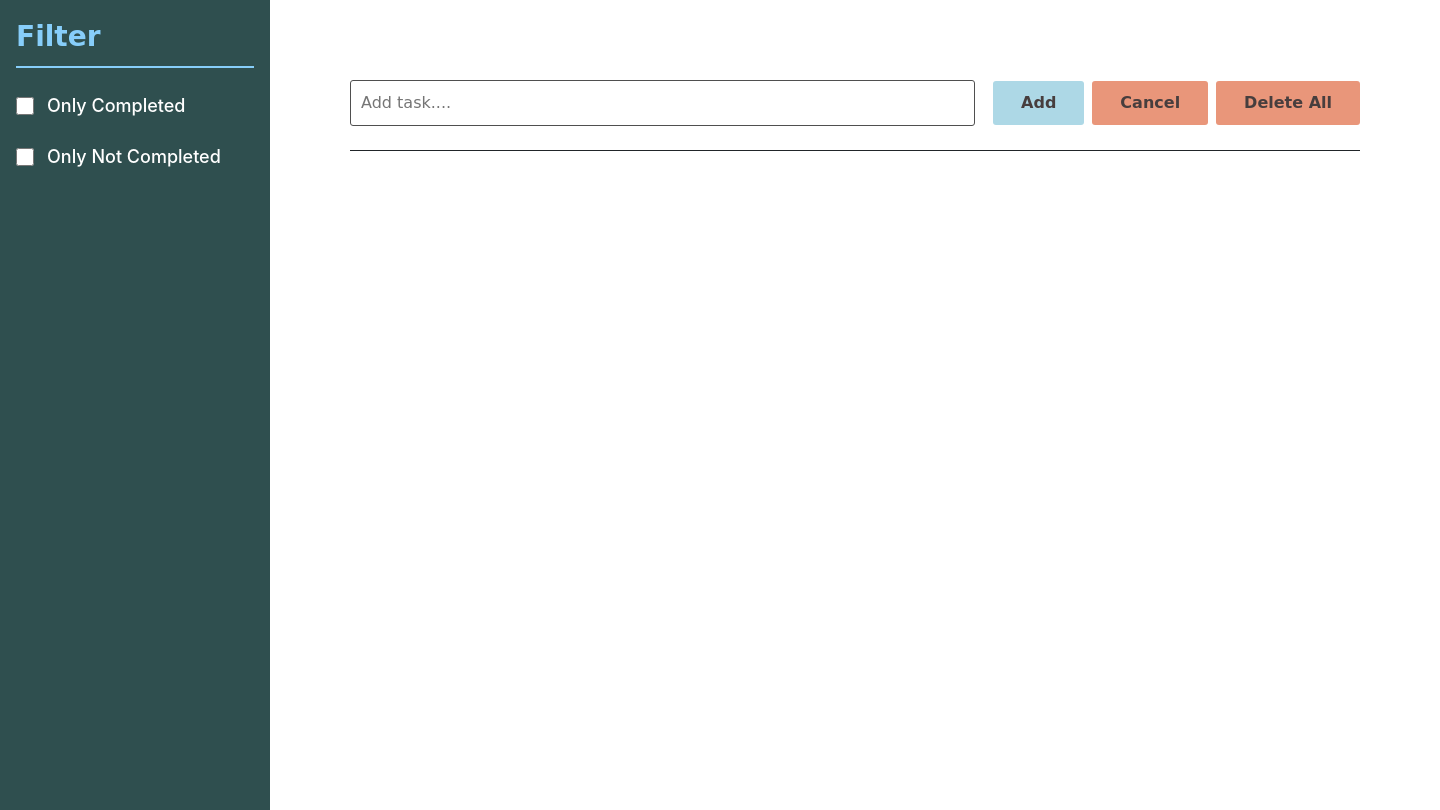
Testing Main Page ToDo › Logic Work Btn Cancel
Expected: the text "Cancel" is shown, 1092,81 -> 1208,125
Type "test" into the field at (663, 103), box 350,80 -> 975,126
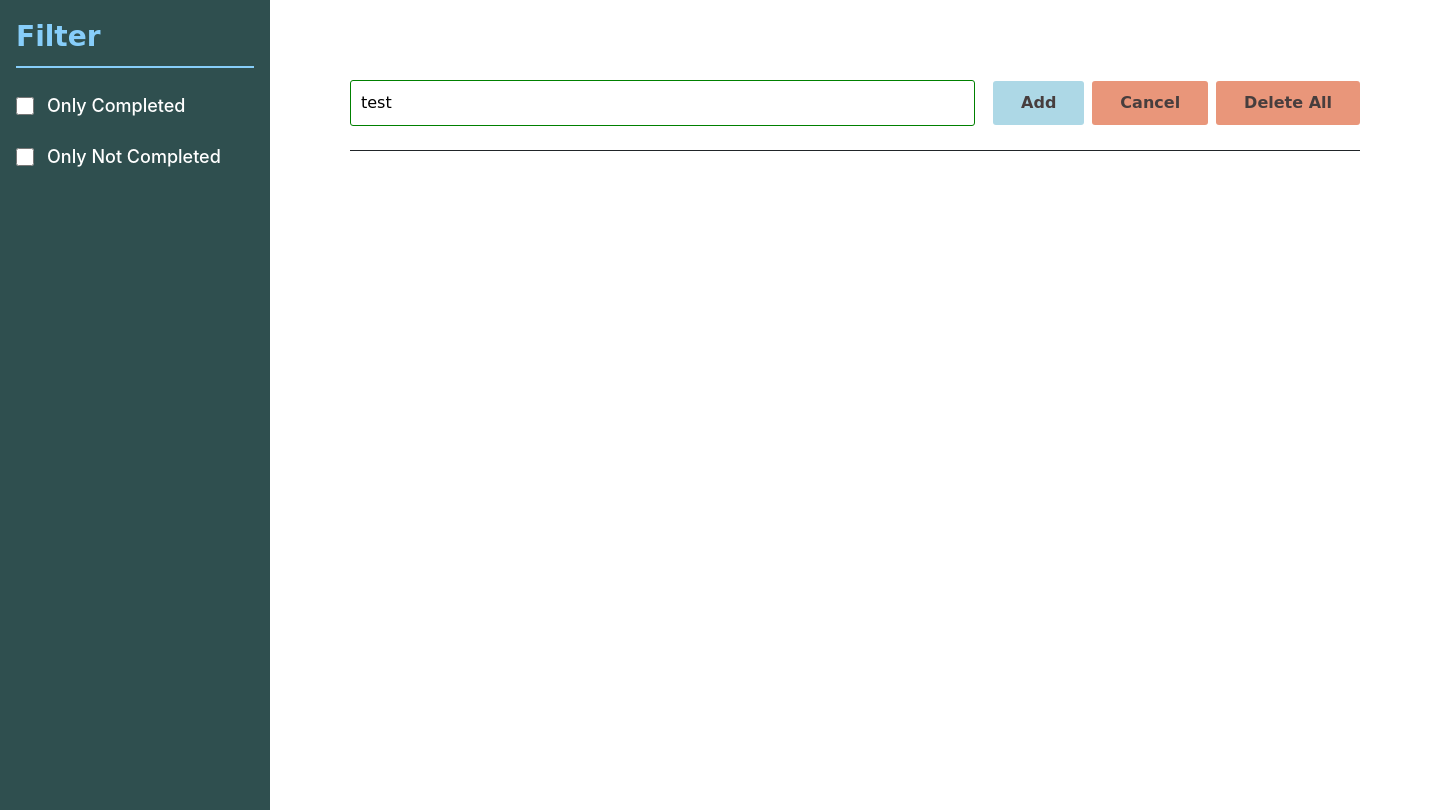
Click the text "Cancel" at (1150, 103), box 1092,81 -> 1208,125
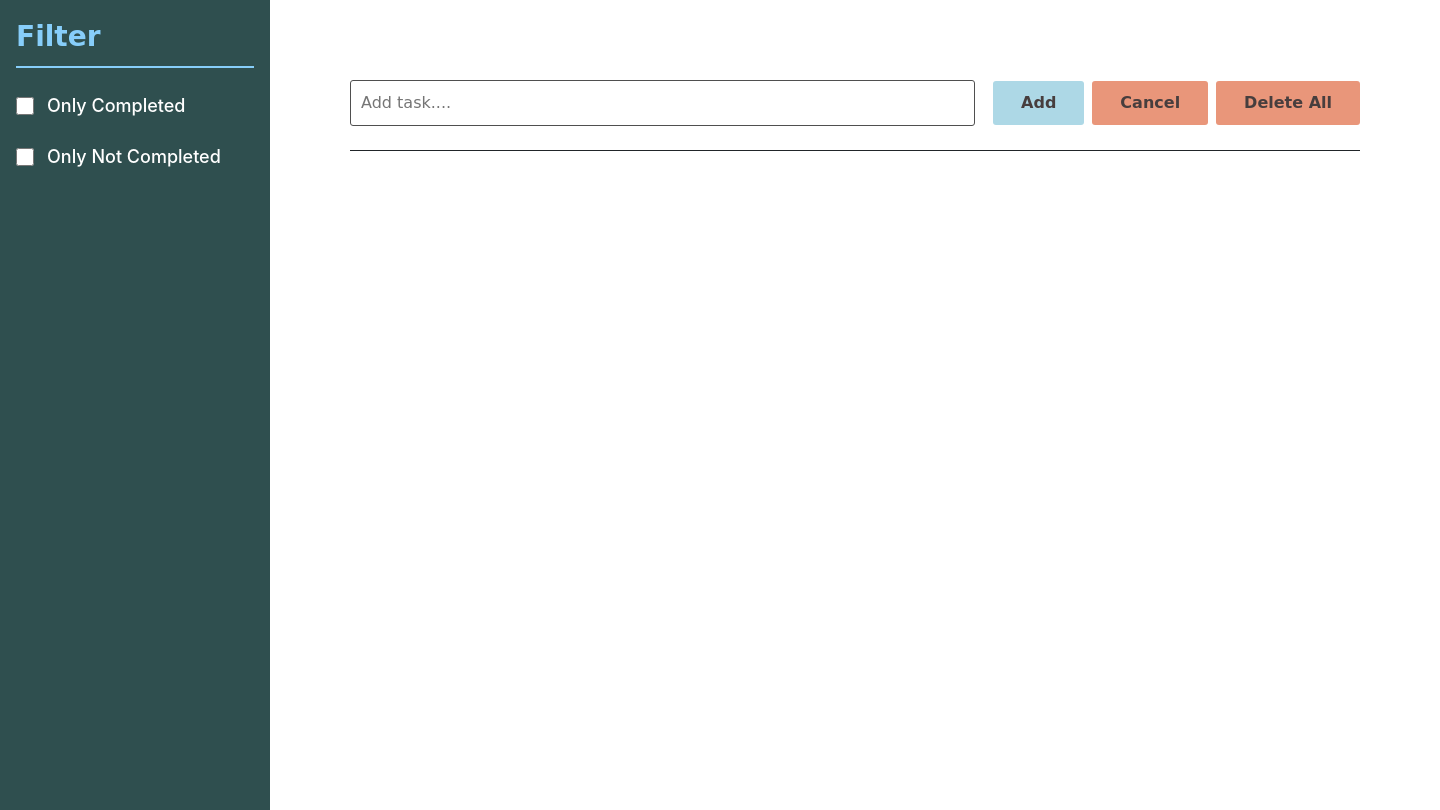
Expected: the field is empty, 350,80 -> 975,126
